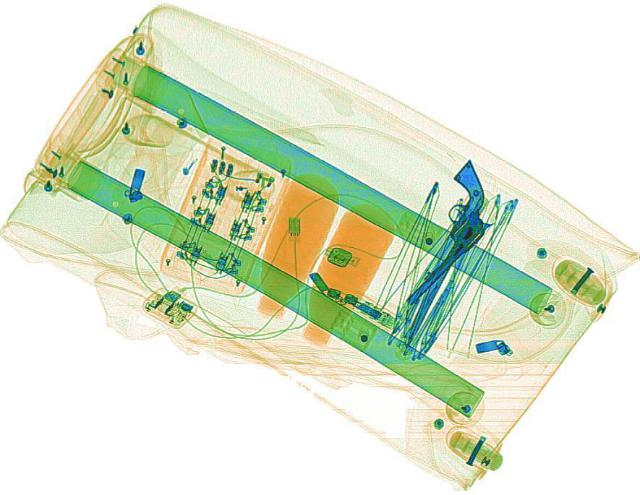Gun: (364, 157, 526, 308)
